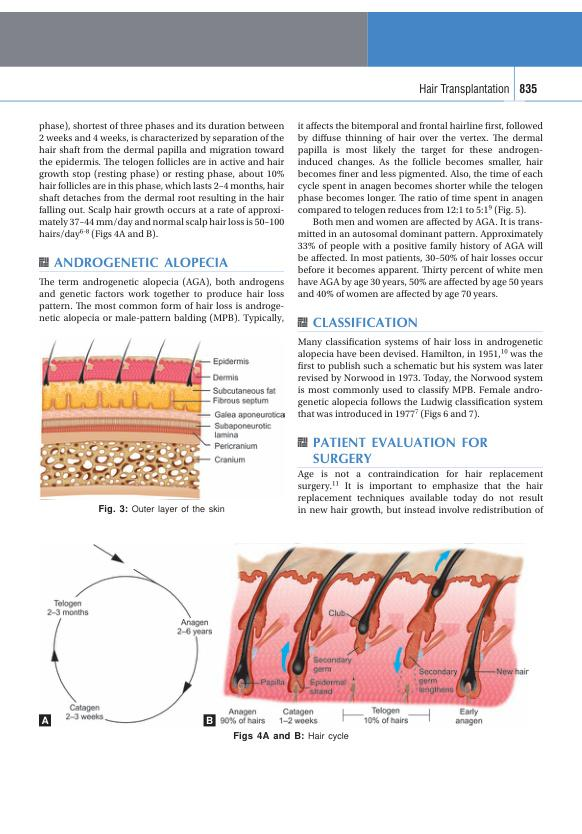caption: (97, 503, 225, 516), (232, 730, 350, 743), (40, 714, 50, 725), (205, 715, 215, 726)
header: (419, 82, 511, 97)
image: (218, 530, 532, 729), (31, 330, 291, 500), (31, 533, 216, 731)
section-heading: (312, 435, 489, 465), (53, 255, 230, 268), (312, 315, 418, 329)
text: (296, 120, 544, 301), (37, 120, 285, 240), (297, 337, 544, 420), (296, 467, 545, 517), (37, 275, 285, 325)
